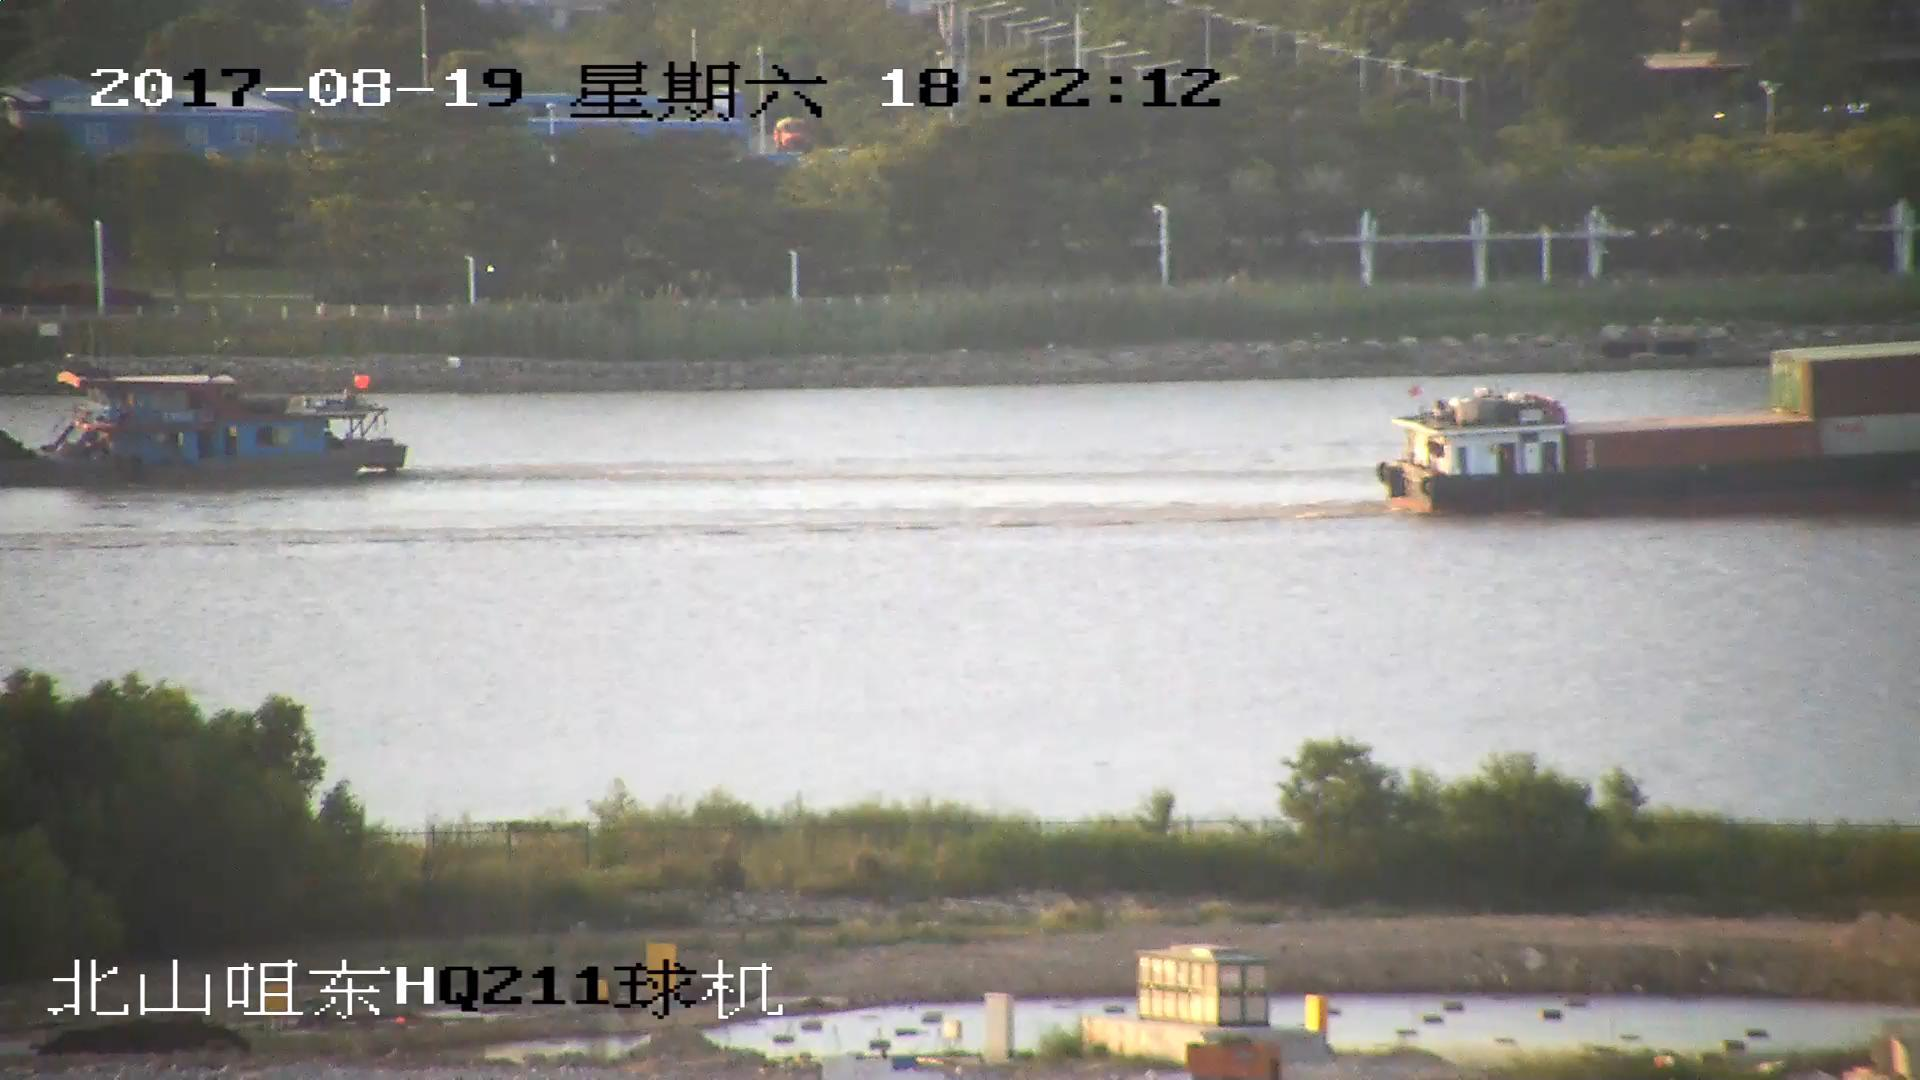Ship: (1385, 342, 1920, 521), (3, 365, 407, 491)
